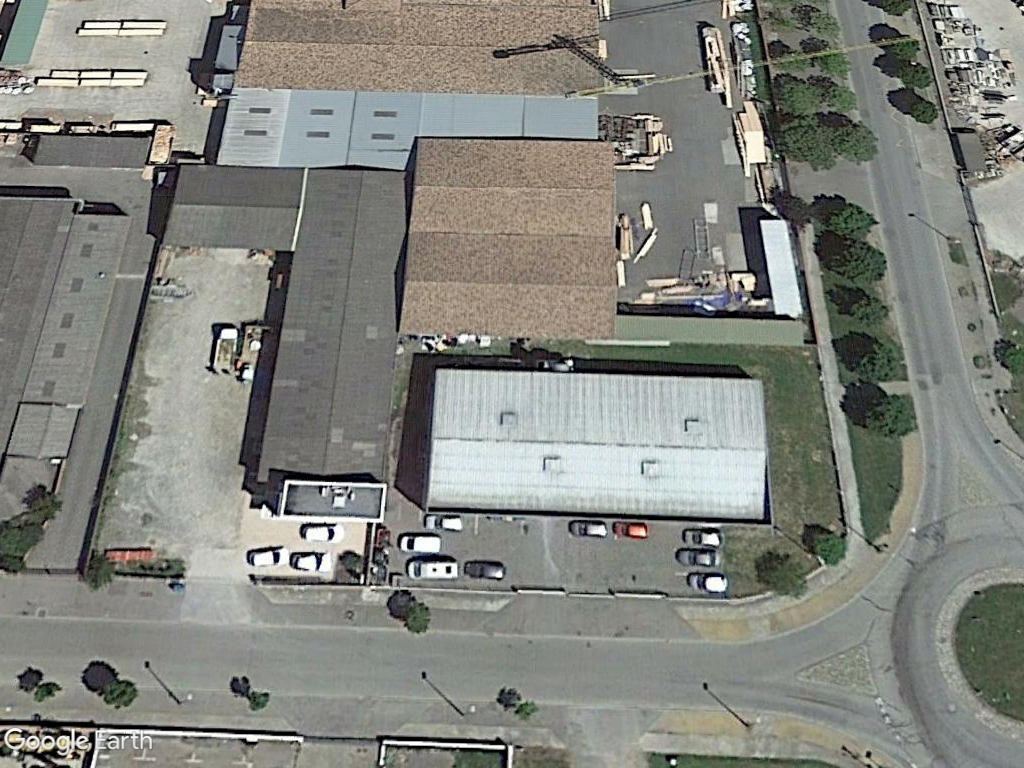car: (405, 555, 462, 580), (674, 545, 726, 571), (395, 530, 447, 556), (681, 567, 731, 594), (244, 543, 292, 568), (463, 557, 509, 582), (284, 549, 334, 572), (419, 511, 468, 534), (298, 523, 351, 544), (564, 517, 610, 539), (680, 526, 724, 545), (611, 520, 650, 538)
